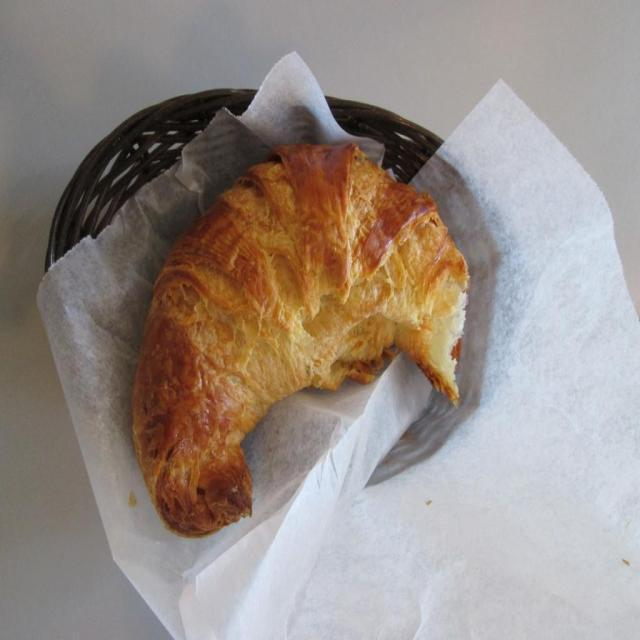Croissant: (130, 140, 472, 538)
